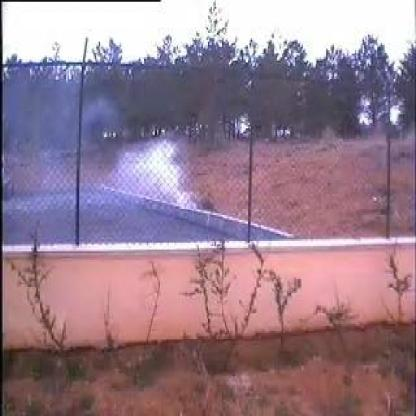-: (85, 121, 200, 236)
